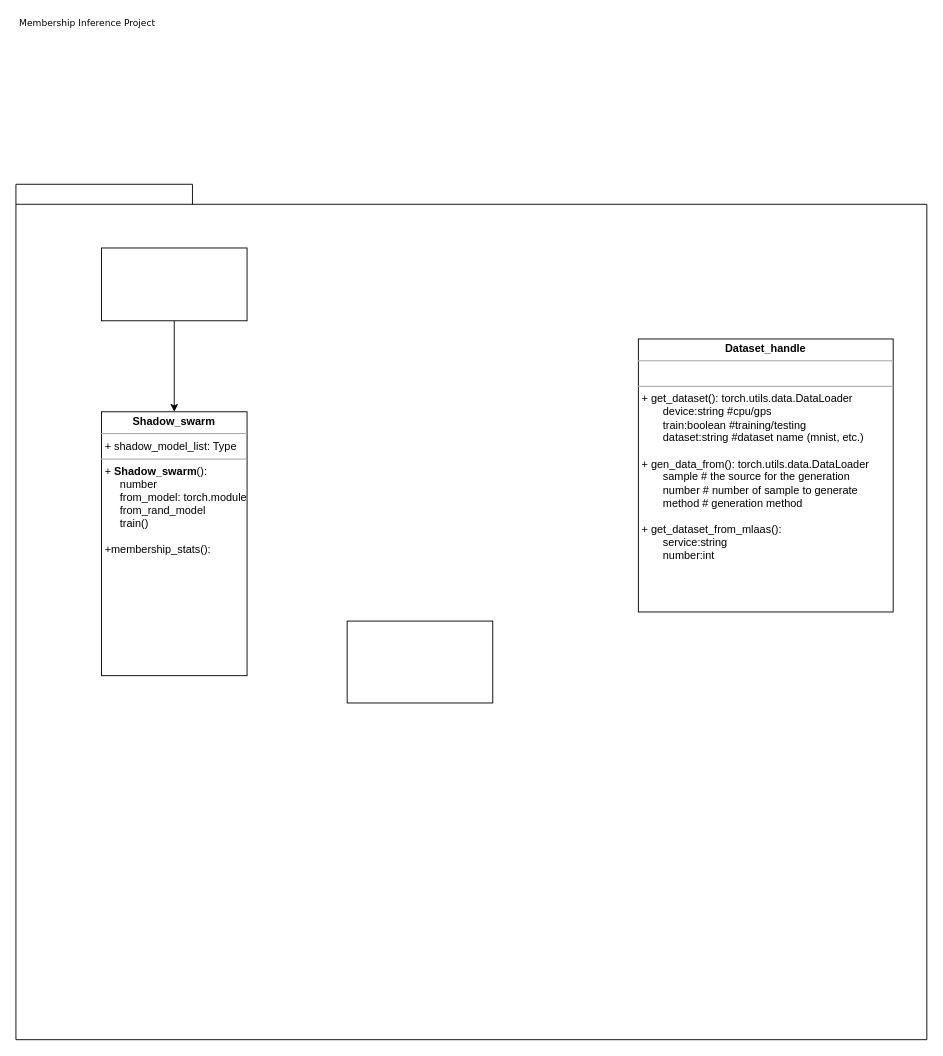
Some shapes in this 943 by 1056 pixel diagram are drawn without their labels. Here are the shapes that lost their labels. From the top down, the box of each, then its label:
(101, 247, 247, 321): Shadow_model + field: Type + random_arch(): Type
(346, 620, 493, 703): Statistics Output graphs and deal with experiement measurement
